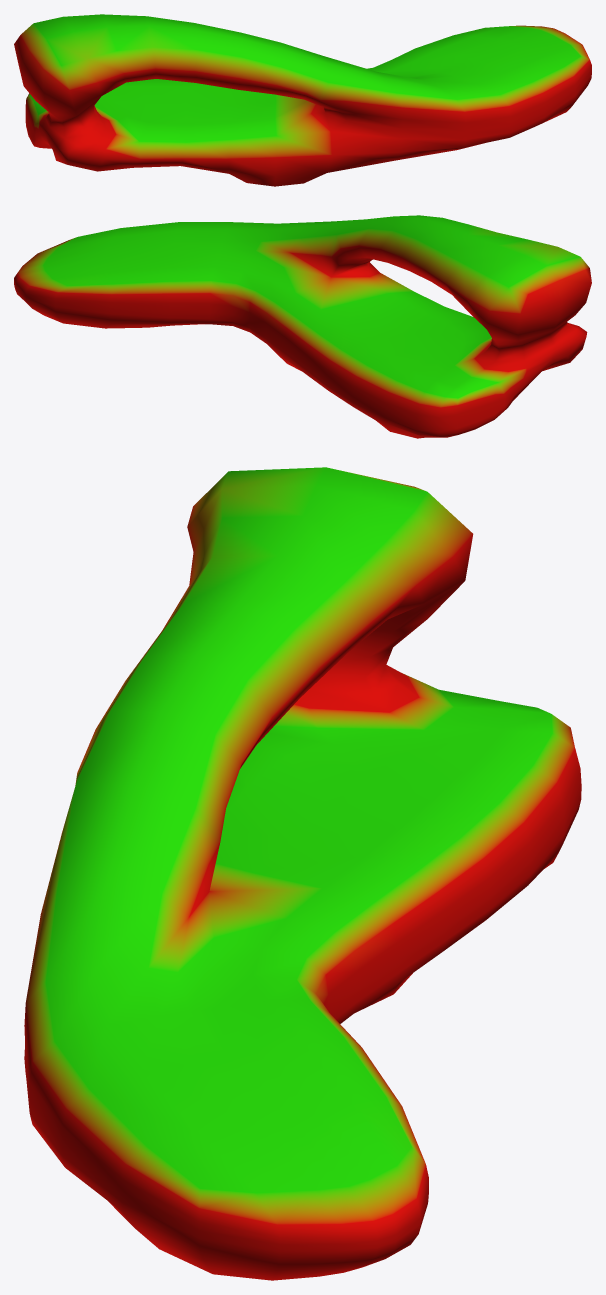
The model's file is AO Floating Island.fbx.
The picture shows the model from 3 angles, top to bottom: view 1: azimuth 30°, elevation 25°; view 2: azimuth 150°, elevation 25°; view 3: azimuth 270°, elevation 25°; orthographic projection. The views are drawn at different scales.
Parts seen in each view (by area): view 1: Floating Island; view 2: Floating Island; view 3: Floating Island.
Boxes of the visible parts, x1,y1,x2,y2 form: Floating Island: (14,14,591,186); Floating Island: (14,215,591,438); Floating Island: (24,467,581,1280).
Bounding box in the file's own units: 2915 × 820 × 1282.
